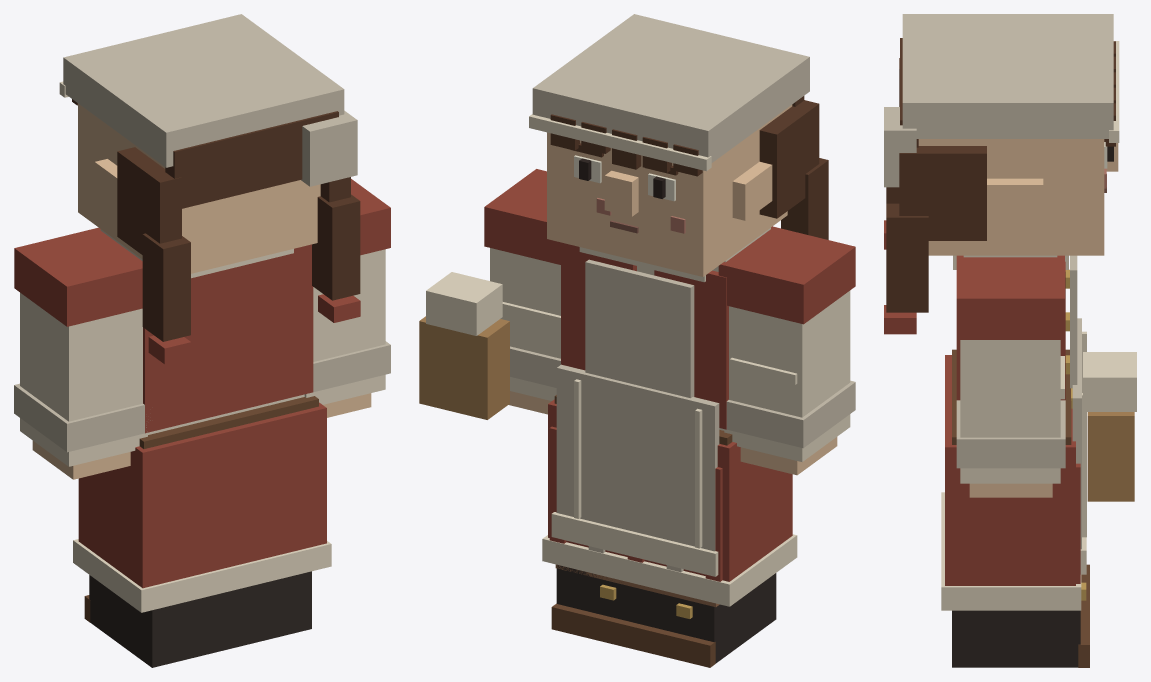
Rendered from little_girl.obj.
The picture shows the model from 3 angles, left to right: view 1: azimuth 30°, elevation 25°; view 2: azimuth 150°, elevation 25°; view 3: azimuth 270°, elevation 25°; orthographic projection. The views are drawn at different scales.
Parts seen in each view (by area): view 1: head, body, right_arm, left_arm, right_leg, left_leg; view 2: body, head, right_arm, left_arm, equipment_left, right_leg, left_leg; view 3: head, left_arm, body, left_leg, equipment_left.
Boxes of the visible parts, bbox=[...] form: head: bbox=[59, 14, 360, 364]; body: bbox=[73, 229, 331, 612]; right_arm: bbox=[14, 227, 150, 479]; left_arm: bbox=[304, 179, 390, 417]; right_leg: bbox=[84, 575, 234, 667]; left_leg: bbox=[230, 571, 311, 647]; body: bbox=[542, 228, 797, 606]; head: bbox=[529, 14, 828, 276]; right_arm: bbox=[718, 226, 855, 475]; left_arm: bbox=[484, 169, 560, 414]; equipment_left: bbox=[419, 272, 509, 419]; right_leg: bbox=[628, 573, 776, 667]; left_leg: bbox=[551, 564, 639, 649]; head: bbox=[884, 14, 1119, 334]; left_arm: bbox=[956, 255, 1065, 497]; body: bbox=[941, 255, 1086, 610]; left_leg: bbox=[952, 582, 1089, 667]; equipment_left: bbox=[1083, 352, 1136, 501].
Size of the model in its own units: 0.9327 by 1.39 by 0.5603.
